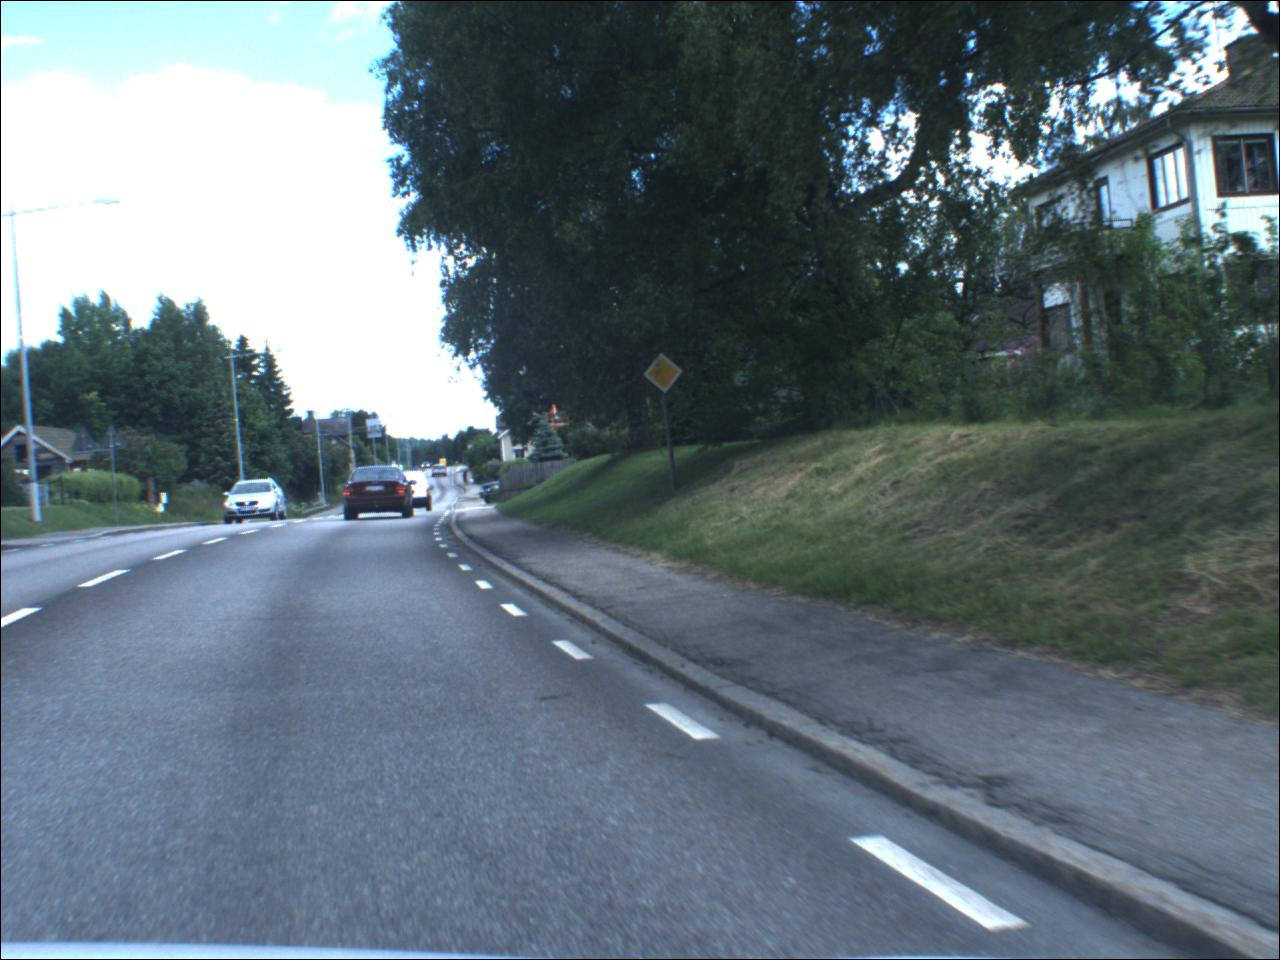PRIORITY_ROAD: (642, 352, 688, 398)
